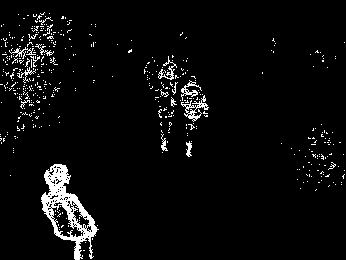person: (38, 161, 99, 259), (178, 73, 211, 160)
